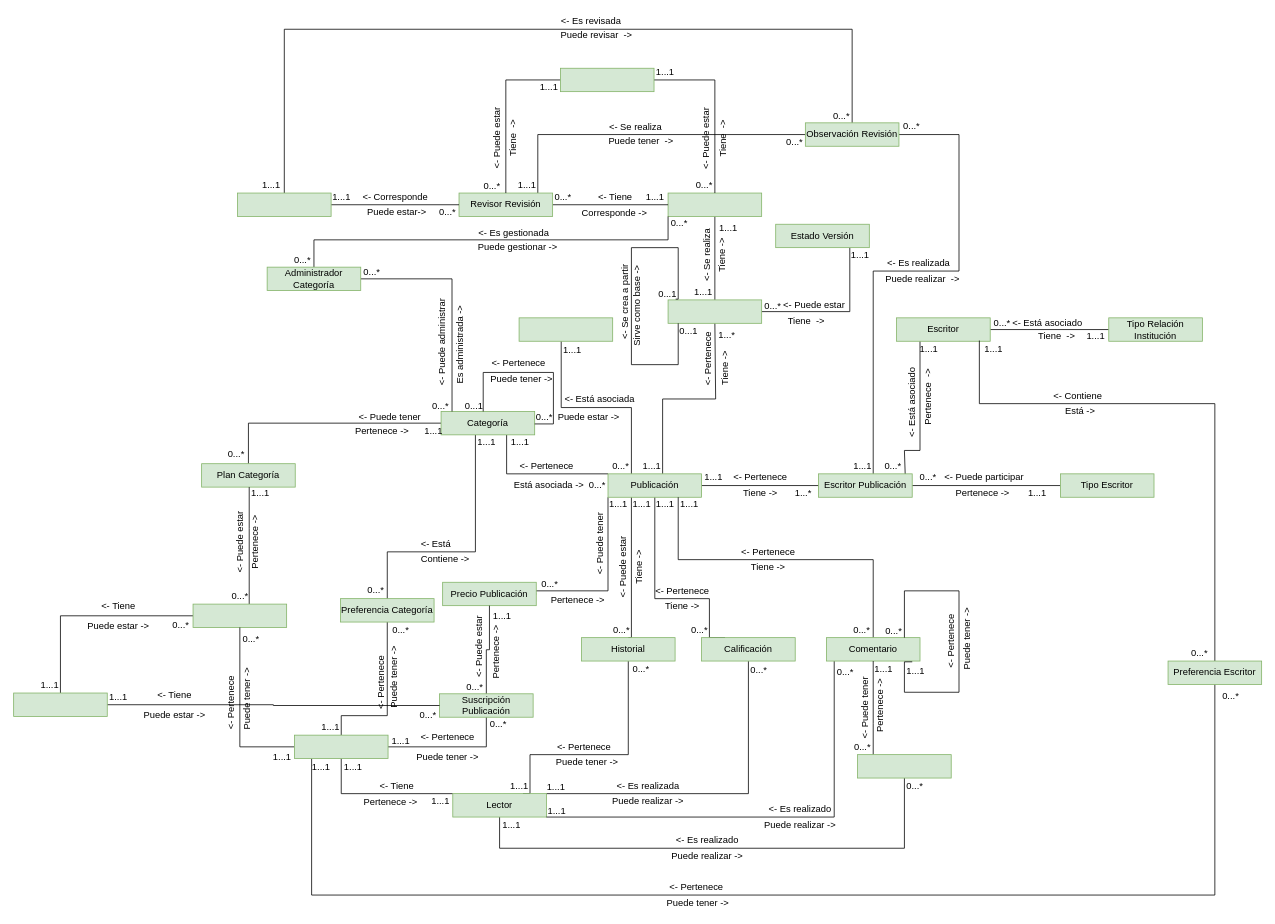
This 1275x924 diagram has some shape labels left out. Here are the shapes that lost their labels. From the top down, the box of each, then its label:
(560, 67, 654, 92): Estado Revisión
(237, 192, 331, 216): Revisor
(667, 192, 762, 216): Revisión
(518, 317, 613, 341): Tipo Acceso
(667, 299, 762, 323): Versión
(192, 603, 287, 628): Suscripción Categoría
(13, 692, 107, 716): Estado Suscripción
(294, 734, 388, 759): Perfil
(857, 754, 951, 778): Reporte
